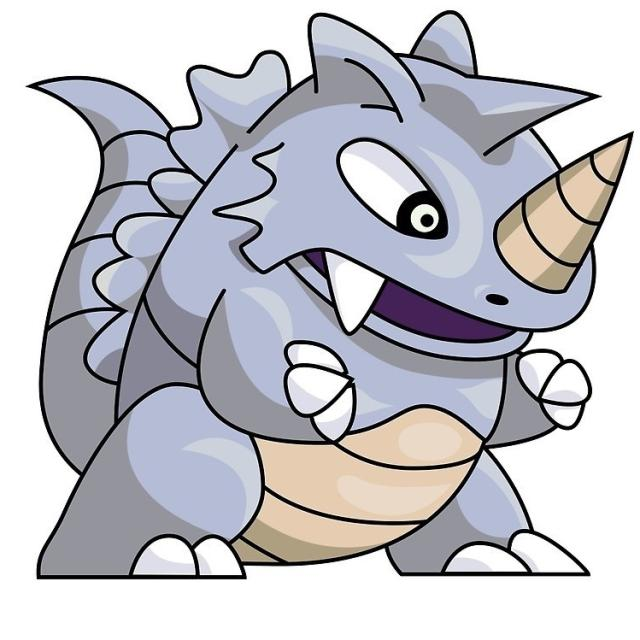Rhydon: (62, 35, 609, 579)
